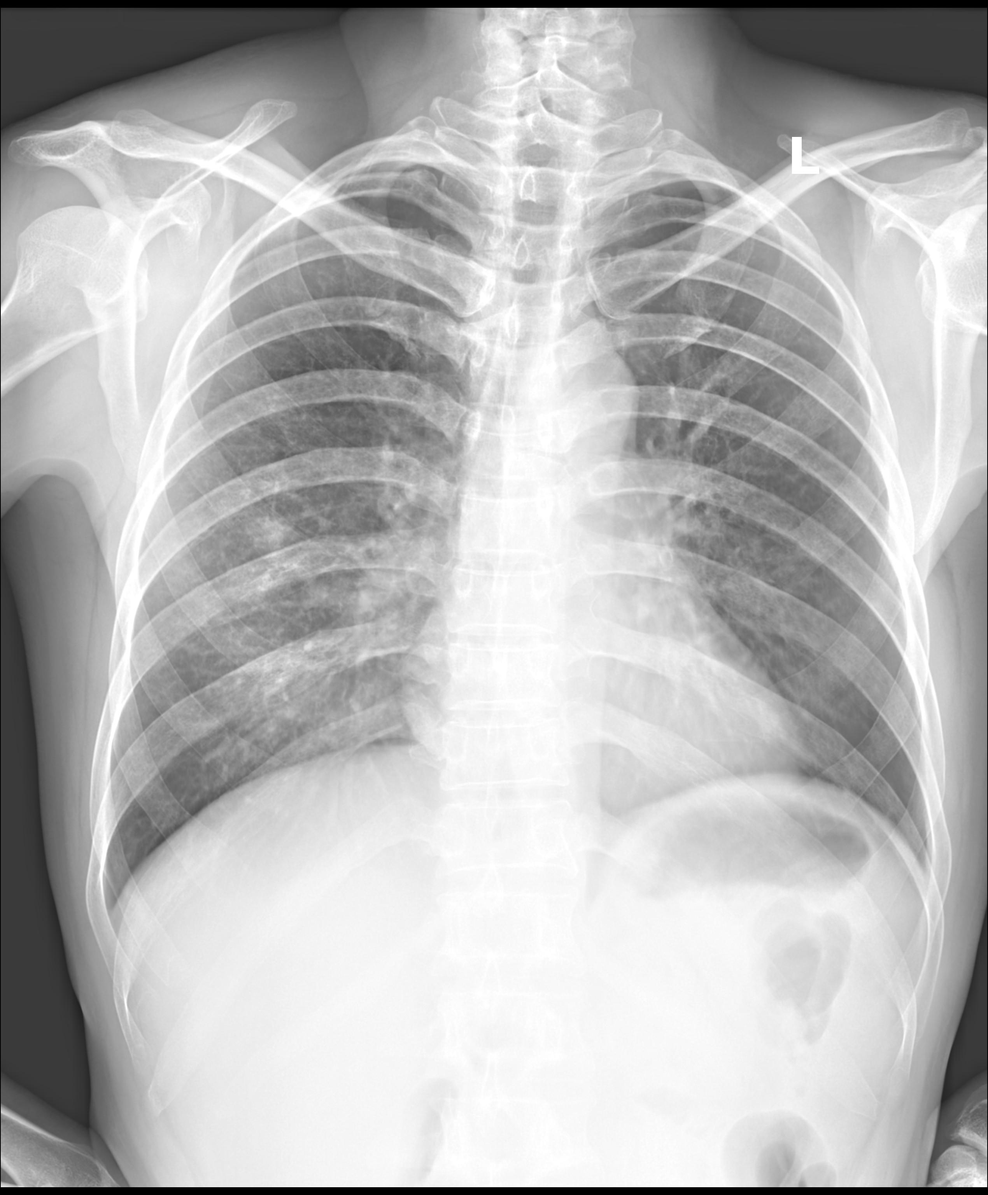Aortic enlargement: (518, 331, 639, 471)
Pleural thickening: (632, 179, 733, 198), (343, 156, 431, 174)
